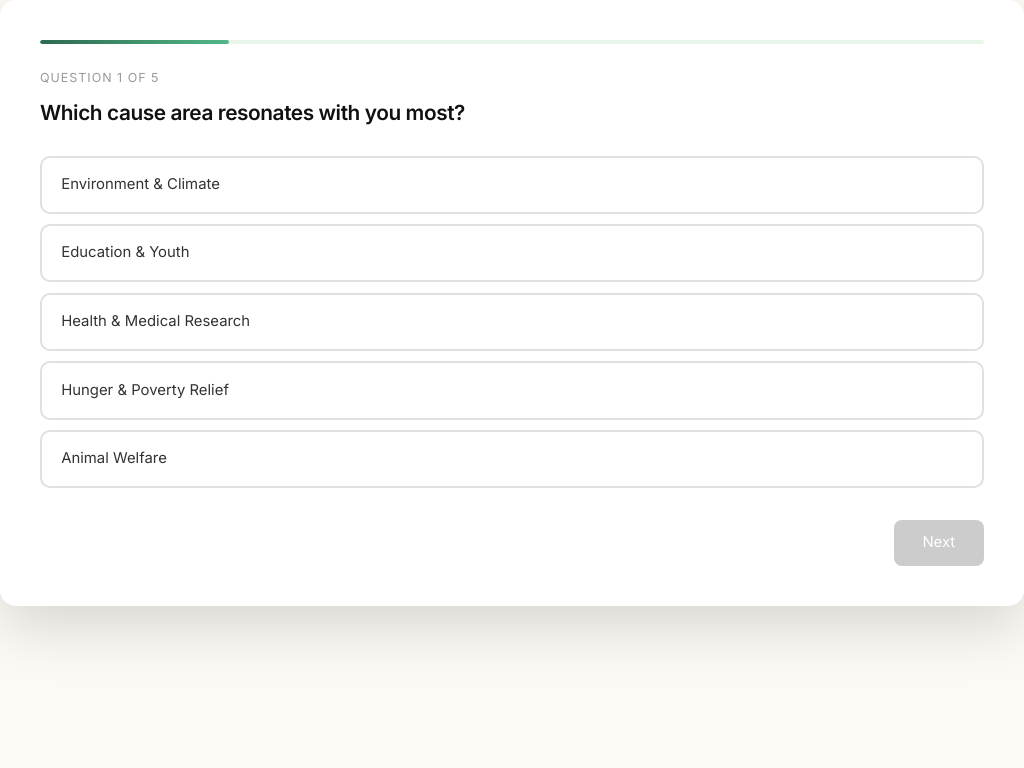
Questionnaire › Next button becomes enabled after selecting an answer
Click the button "Environment & Climate".
click(141, 184)  # box [40,156,984,214]
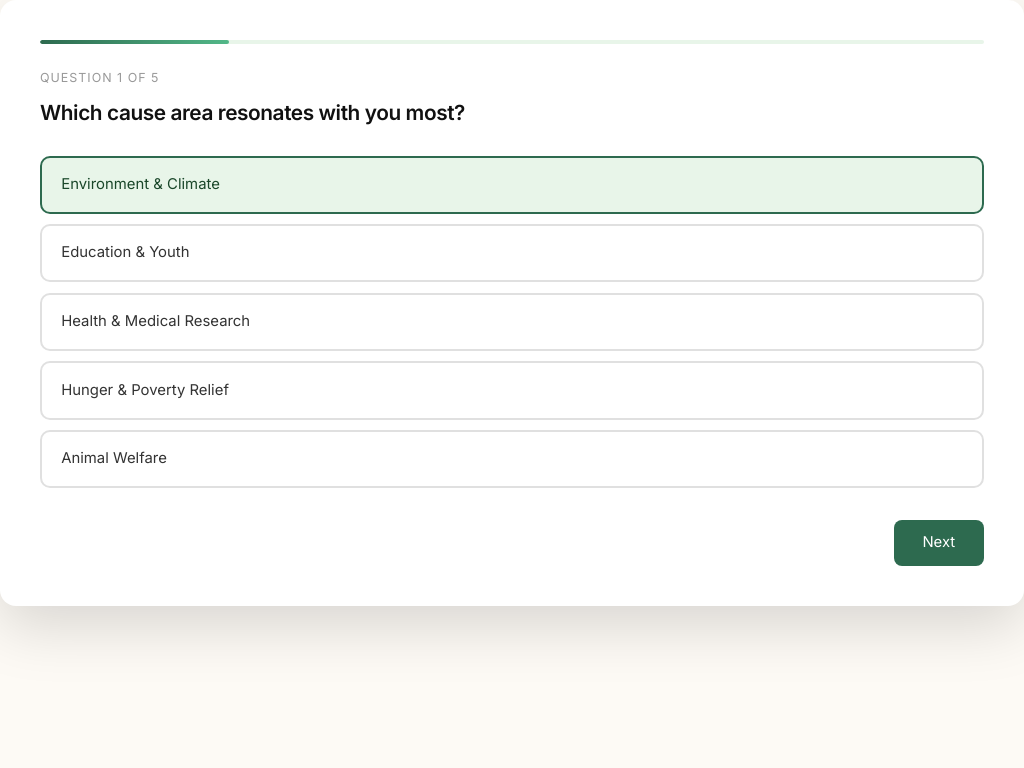
Check: the button "Next" is enabled, box [894,520,984,566]
